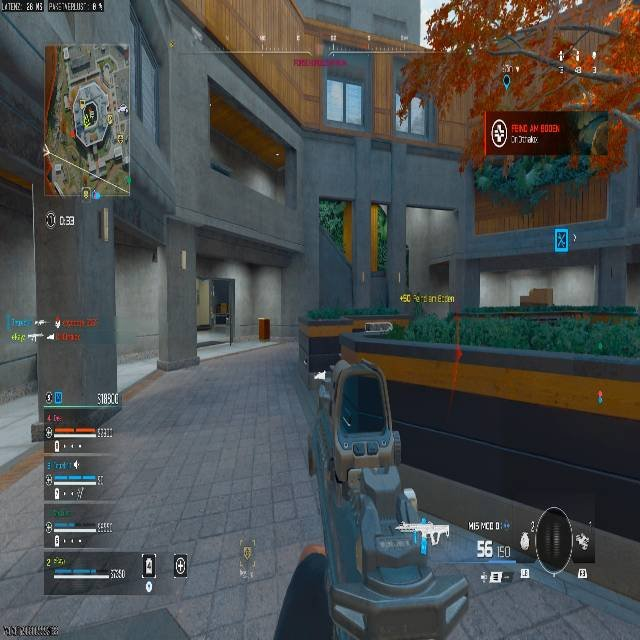head: (337, 335, 359, 362)
